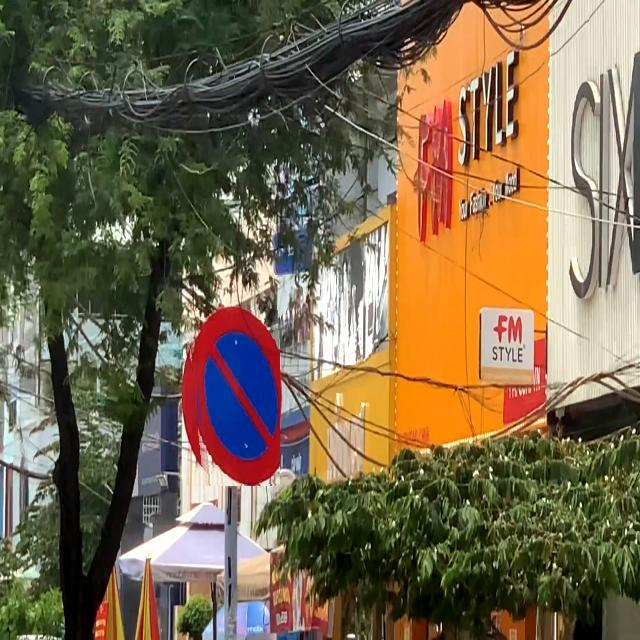P-131a: (185, 305, 280, 486)
